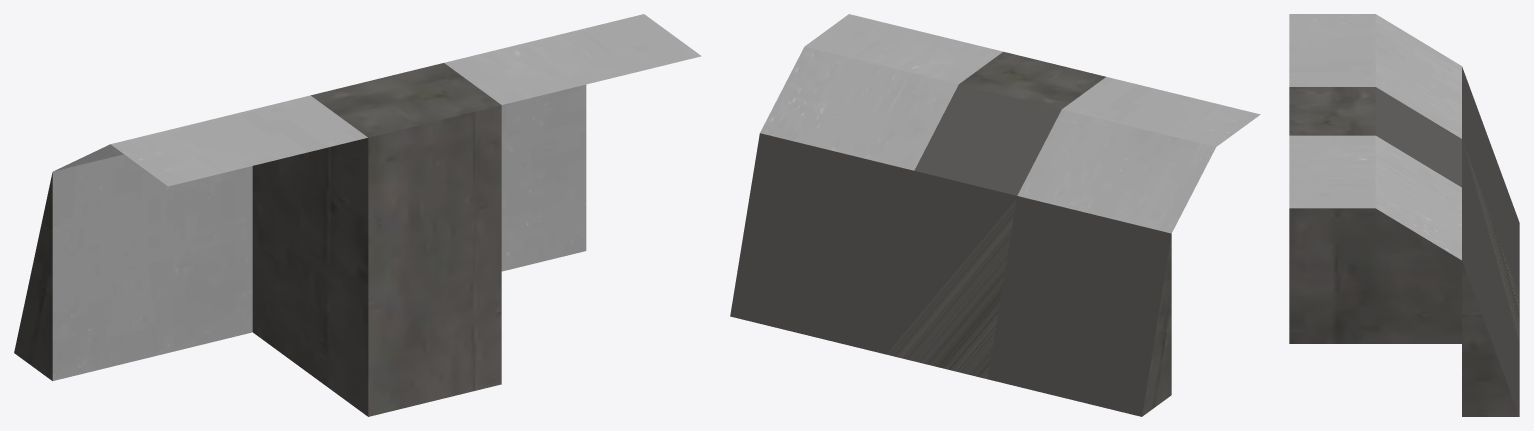
File: centered_ceiling.glb
3 views of the same model, side by side, from view 1: azimuth 30°, elevation 25°; view 2: azimuth 150°, elevation 25°; view 3: azimuth 270°, elevation 25° (orthographic). The views are drawn at different scales.
Parts seen in each view (by area): view 1: centered.ceiling; view 2: centered.ceiling; view 3: centered.ceiling.
Part boxes in pixels (x1,y1,x2,y2): centered.ceiling: (14, 14, 701, 416); centered.ceiling: (730, 14, 1260, 416); centered.ceiling: (1289, 14, 1519, 416).
Bounding box in the file's own units: 1 × 0.5 × 0.5.
2 materials, 2 textured.
